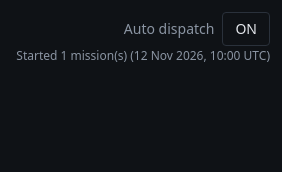
Test case: AutoDispatchControl › turns off again
This screenshot has width=282, height=172.
Click the switch named "Auto dispatch".
click(246, 29)  # box [222,12,270,46]
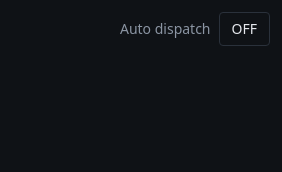
Expected: the switch is not checked, [218,12,270,46]
